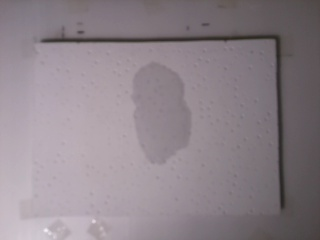Water_detected: (139, 81, 188, 159)
